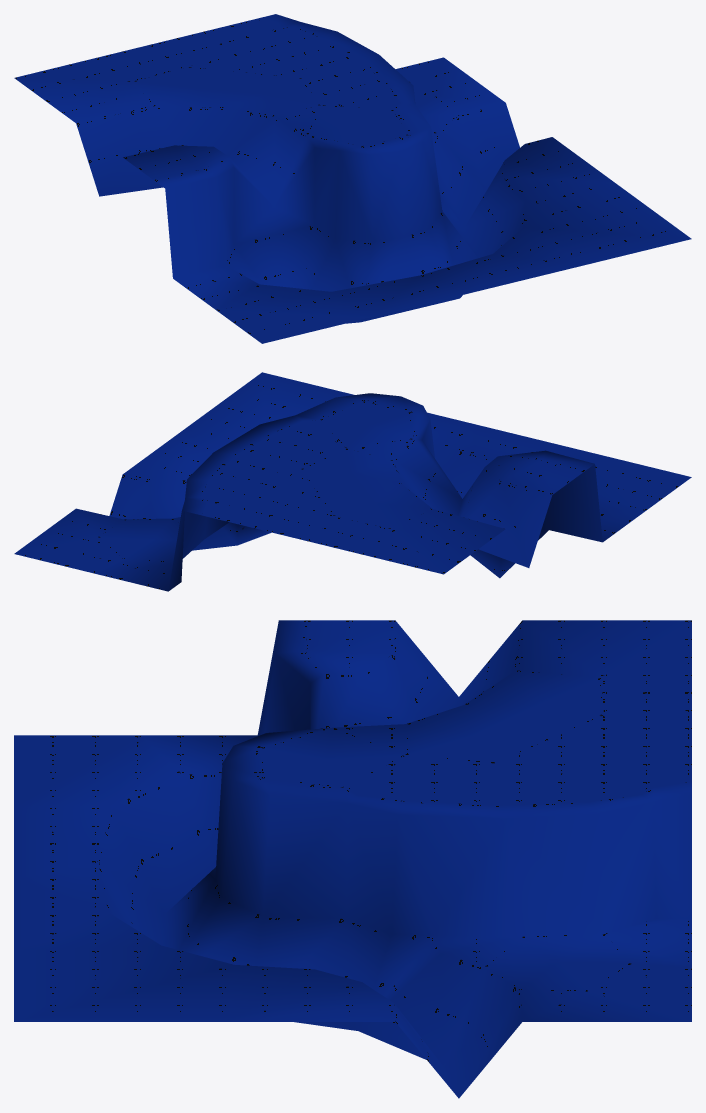
The model's file is GRD_S_C2_R2_2.fbx.
3 views of the same model, one above another, from view 1: azimuth 30°, elevation 25°; view 2: azimuth 150°, elevation 25°; view 3: azimuth 270°, elevation 25° (orthographic). The views are drawn at different scales.
Visible parts, largest first — view 1: material_00012000, material_C0042000, material_00032000, material_C0022000; view 2: material_00012000, material_C0042000, material_C0022000, material_00032000; view 3: material_00012000, material_00032000, material_C0042000, material_C0022000.
Boxes of the visible parts, box(x1,y1,x2,y2) form: material_00012000: box(14, 19, 691, 343); material_C0042000: box(76, 103, 525, 323); material_00032000: box(154, 14, 442, 278); material_C0022000: box(133, 66, 459, 146); material_00012000: box(14, 372, 691, 591); material_C0042000: box(109, 439, 552, 578); material_C0022000: box(98, 401, 432, 562); material_00032000: box(168, 393, 602, 590); material_00012000: box(14, 620, 691, 1021); material_00032000: box(215, 620, 691, 936); material_C0042000: box(98, 620, 522, 1098); material_C0022000: box(260, 670, 632, 991).
Size of the model in its own units: 12800 by 4400 by 12800.
